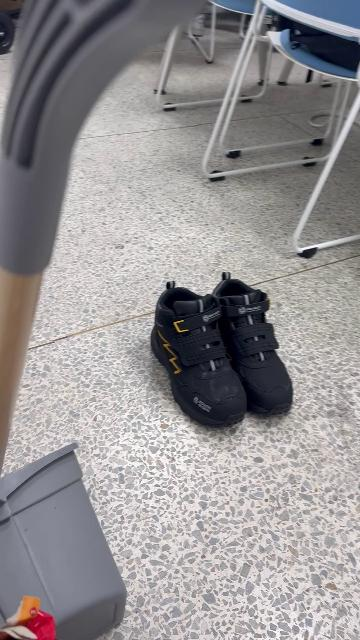shoe_worn: (150, 281, 248, 427), (213, 271, 295, 418)
